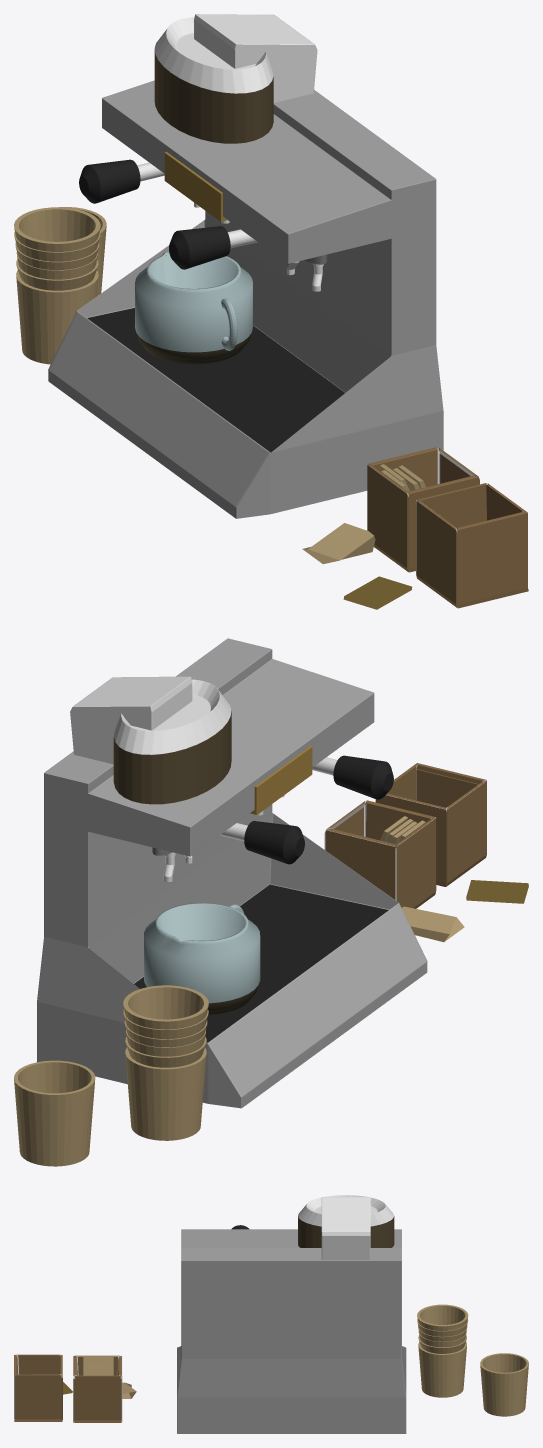
Rendered from coffee station.fbx.
3 views of the same model, one above another, from view 1: azimuth 30°, elevation 25°; view 2: azimuth 150°, elevation 25°; view 3: azimuth 270°, elevation 25° (orthographic). The views are drawn at different scales.
Visible parts, largest first — view 1: Cube, Cylinder, Cylinder.002, Cylinder.001; view 2: Cube, Cylinder, Cylinder.002, Cylinder.001; view 3: Cube, Cylinder.
Boxes of the visible parts, x1,y1,x2,y2 form: Cube: (48, 14, 528, 608); Cylinder: (14, 207, 425, 564); Cylinder.002: (135, 252, 252, 364); Cylinder.001: (343, 576, 412, 609); Cube: (37, 638, 486, 1108); Cylinder: (14, 816, 464, 1166); Cylinder.002: (144, 903, 260, 1014); Cylinder.001: (466, 880, 528, 903); Cube: (14, 1195, 406, 1433); Cylinder: (83, 1304, 528, 1416).
Bounding box in the file's own units: 606 × 976 × 2108.
